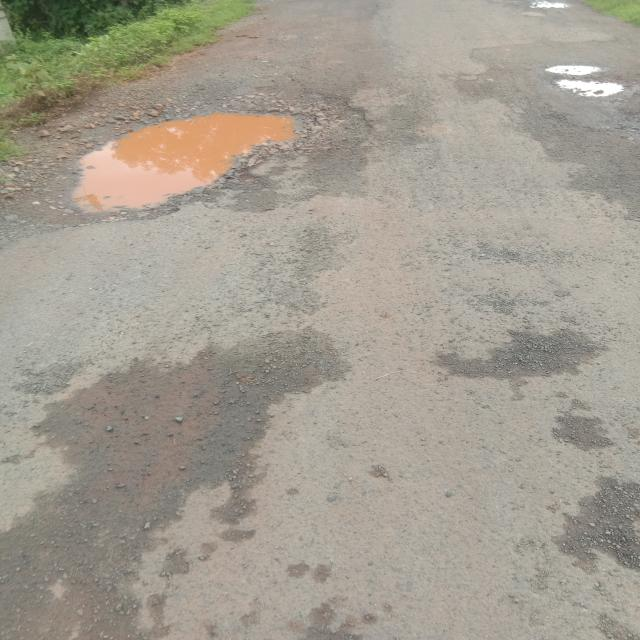potholes: (56, 105, 324, 226), (552, 78, 630, 101), (543, 60, 613, 78), (523, 1, 576, 13)
